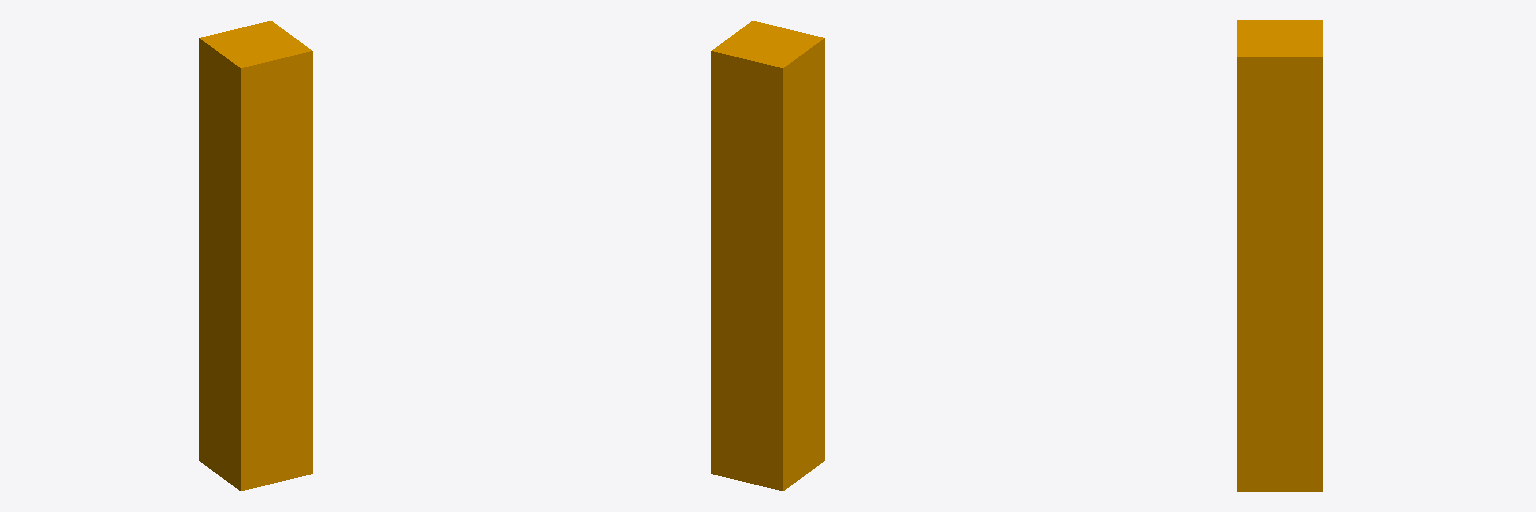
URDF robot description (box):
<?xml version='1.0' encoding='UTF-8'?>
<robot name="box">
  <link name="base_link">
    <inertial>
      <origin xyz="0.0 0.0 0.0" rpy="0.0 -0.0 0.0"/>
      <mass value="1.0"/>
      <inertia ixx="1.0" ixy="0.0" ixz="0.0" iyy="1.0" iyz="0.0" izz="1.0"/>
    </inertial>
    <visual name="base_link_visual">
      <geometry>
        <box size="0.8 0.8 4.5"/>
      </geometry>
      <origin xyz="0 0 1.0" rpy="0 0 0"/>
    </visual>
    <collision name="base_link_collision">
      <geometry>
        <box size="0.8 0.8 4.5"/>
      </geometry>
      <origin xyz="0 0 1.0" rpy="0 0 0"/>
    </collision>
  </link>
</robot>

--- Facts derived from the render (not from the file) ---
3 views of the same robot in one strip: view 1: azimuth 30°, elevation 25°; view 2: azimuth 150°, elevation 25°; view 3: azimuth 270°, elevation 25° (orthographic).
Model box with 1 links and 0 joints (none), rooted at base_link, posed every joint at zero.
Visible links, largest first — view 1: base_link; view 2: base_link; view 3: base_link.
Link boxes in pixels (bbox=[...]): base_link: bbox=[199, 21, 312, 490]; base_link: bbox=[711, 21, 824, 490]; base_link: bbox=[1237, 20, 1322, 491].
Bounding box of the posed robot: 0.8 × 0.8 × 4.5 m (x, y, z).
Geometry: primitives only (box / cylinder / sphere), no mesh files.